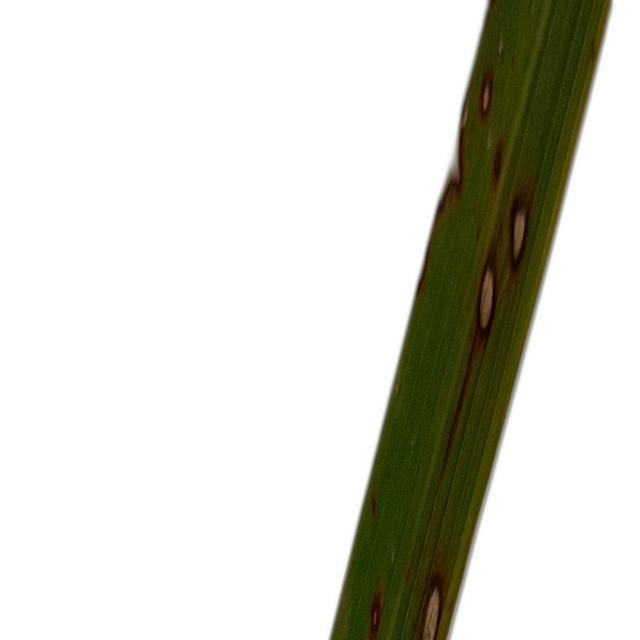LEAF BLAST: (436, 249, 499, 495), (418, 556, 447, 640), (509, 190, 531, 285), (367, 578, 385, 640), (478, 63, 495, 126), (492, 136, 504, 185)
